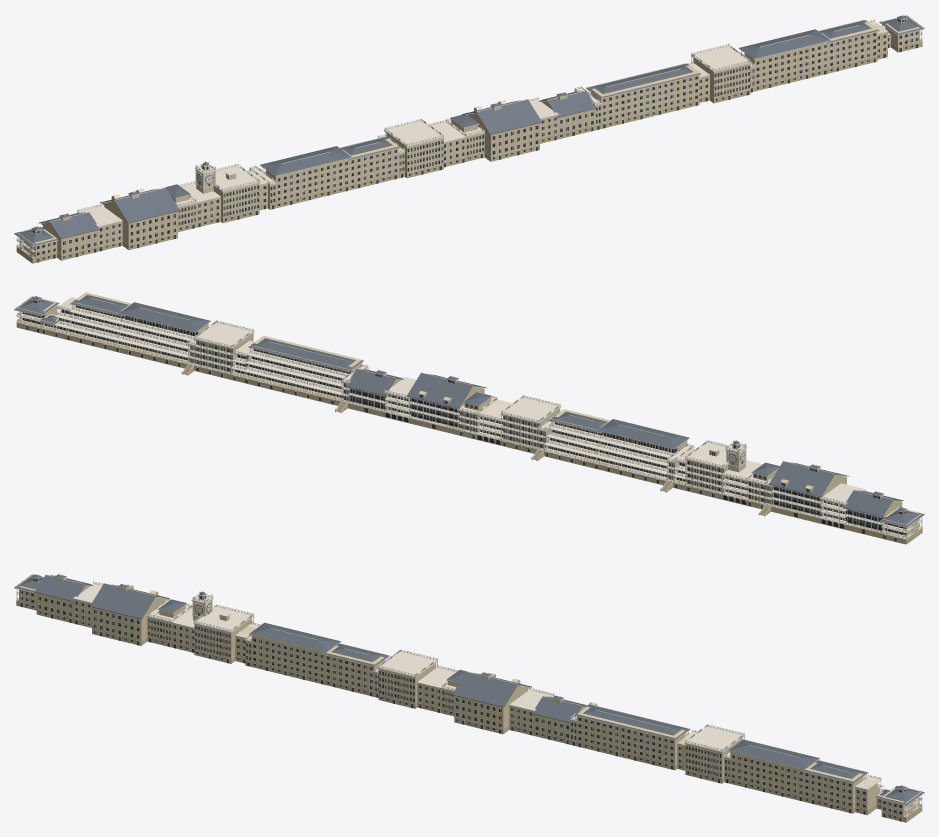
The model's file is ascot_main_stand.glb.
The picture shows the model from 3 angles, top to bottom: view 1: azimuth 30°, elevation 25°; view 2: azimuth 150°, elevation 25°; view 3: azimuth 330°, elevation 25°; orthographic projection.
Parts seen in each view (by area): view 1: ascot_stand_wall, ascot_stand_trim, ascot_stand_roof, ascot_stand_glass, ascot_stand_podium, ascot_stand_door; view 2: ascot_stand_trim, ascot_stand_roof, ascot_stand_glass, ascot_stand_wall, ascot_stand_podium, ascot_stand_iron, ascot_stand_door; view 3: ascot_stand_wall, ascot_stand_trim, ascot_stand_roof, ascot_stand_glass, ascot_stand_podium, ascot_stand_door.
Part boxes in pixels (left/top/right/bottom): ascot_stand_wall: left=22, top=19, right=919, bottom=257; ascot_stand_trim: left=14, top=15, right=924, bottom=262; ascot_stand_roof: left=14, top=15, right=924, bottom=246; ascot_stand_glass: left=33, top=19, right=918, bottom=259; ascot_stand_podium: left=16, top=39, right=922, bottom=263; ascot_stand_door: left=37, top=44, right=918, bottom=262; ascot_stand_trim: left=14, top=296, right=924, bottom=541; ascot_stand_roof: left=14, top=295, right=924, bottom=527; ascot_stand_glass: left=22, top=300, right=906, bottom=535; ascot_stand_wall: left=32, top=292, right=919, bottom=535; ascot_stand_podium: left=16, top=319, right=922, bottom=544; ascot_stand_iron: left=384, top=394, right=845, bottom=523; ascot_stand_door: left=26, top=326, right=896, bottom=541; ascot_stand_wall: left=19, top=578, right=916, bottom=816; ascot_stand_trim: left=14, top=574, right=924, bottom=821; ascot_stand_roof: left=14, top=574, right=924, bottom=805; ascot_stand_glass: left=20, top=578, right=905, bottom=818; ascot_stand_podium: left=16, top=599, right=922, bottom=822; ascot_stand_door: left=20, top=603, right=901, bottom=821.
Bounding box in the file's own units: 509 × 29.75 × 33.45.
